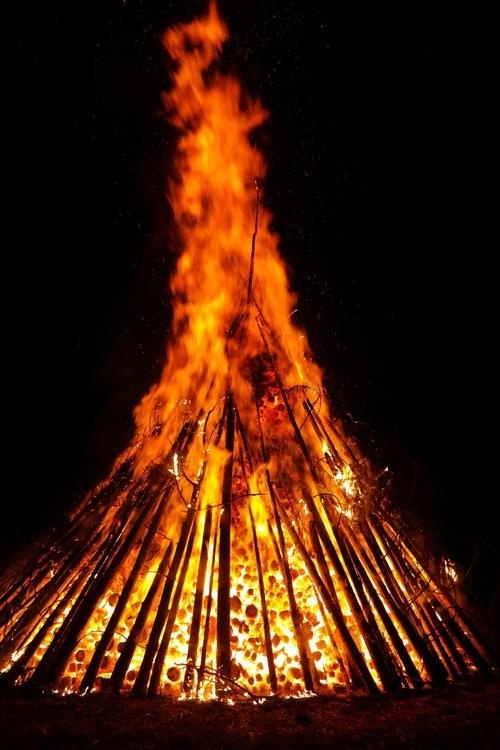fire: (122, 1, 360, 497)
